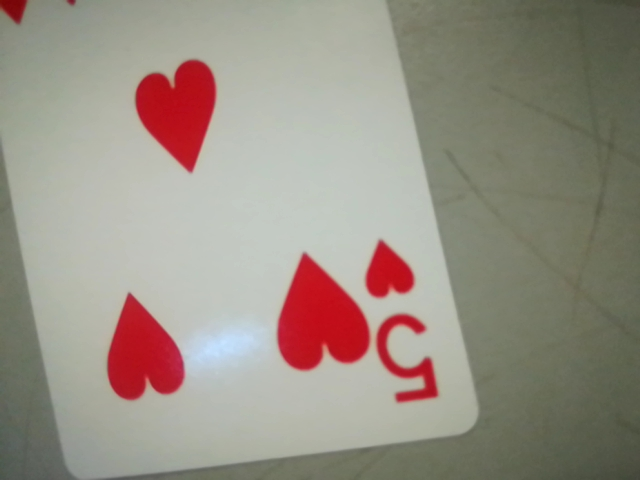hx 5: (357, 222, 451, 420)
